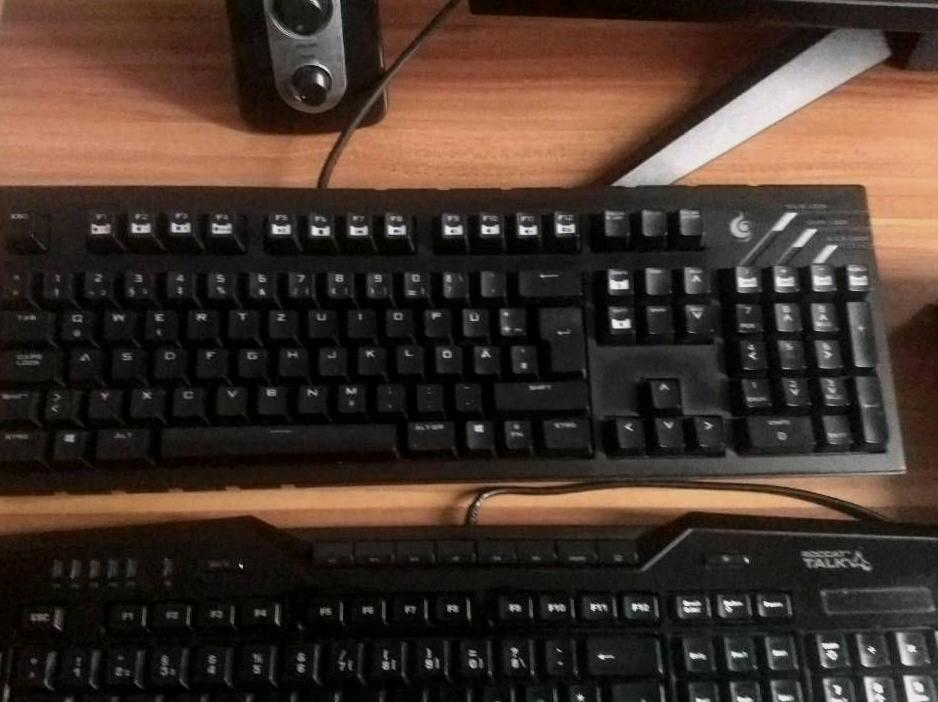keyboard: (1, 177, 919, 504), (1, 553, 938, 702)
